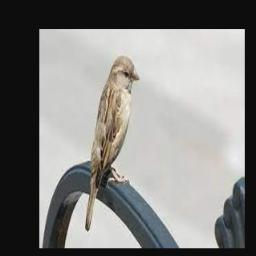Sparrow: (84, 56, 139, 231)
